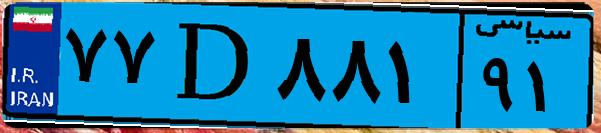1: (385, 28, 445, 110), (525, 38, 570, 115)
7: (57, 26, 110, 100), (110, 28, 158, 98)
8: (270, 28, 330, 110), (330, 28, 385, 110)
9: (475, 38, 525, 113)
D: (158, 12, 270, 120)
